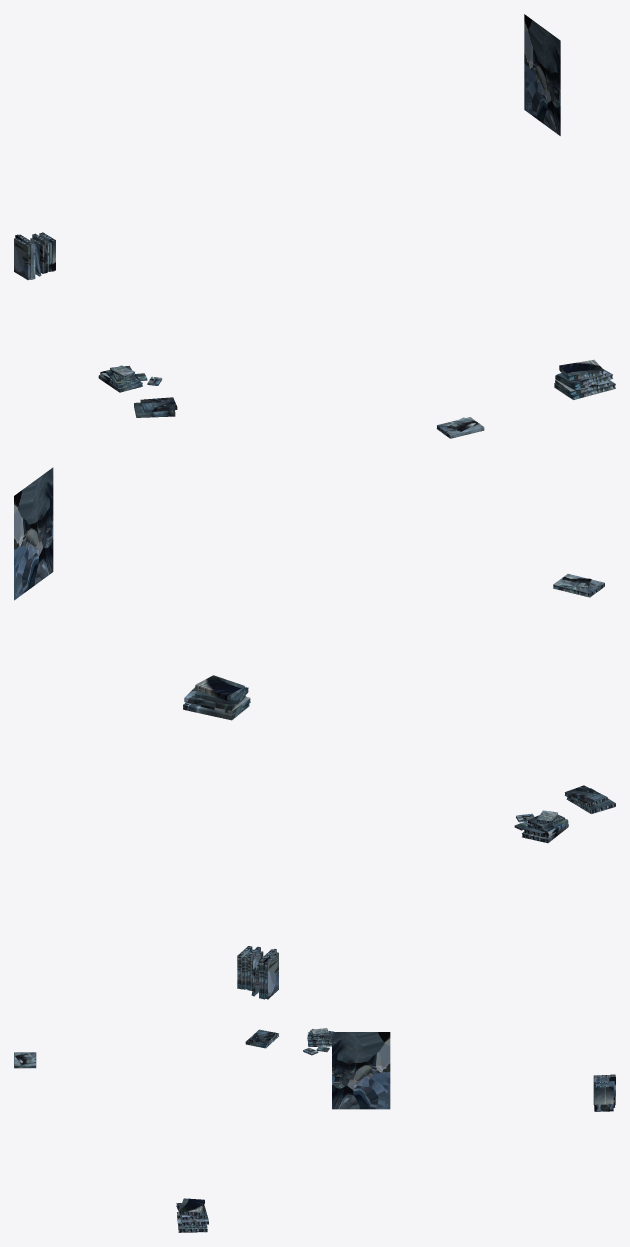
The model's file is futuristic_room_15.obj.
3 views of the same model, one above another, from view 1: azimuth 30°, elevation 25°; view 2: azimuth 150°, elevation 25°; view 3: azimuth 270°, elevation 25° (orthographic). The views are drawn at different scales.
Bounding box in the file's own units: 4.15 × 2.27 × 5.72.
